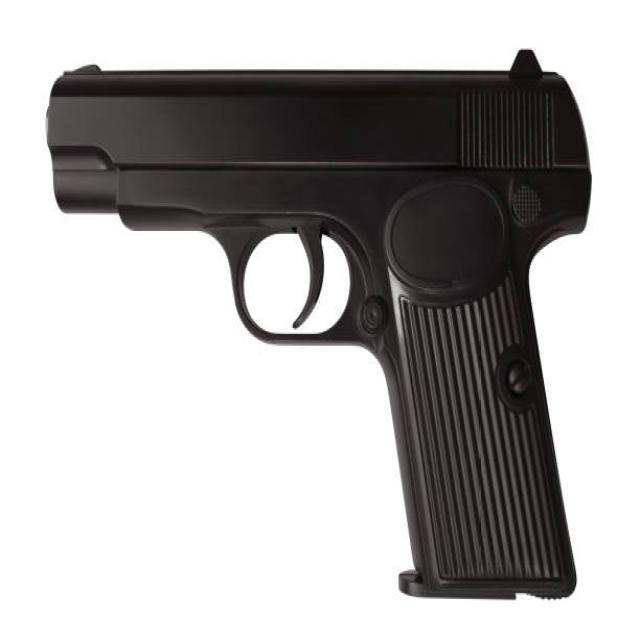pistol: (41, 38, 596, 615)
